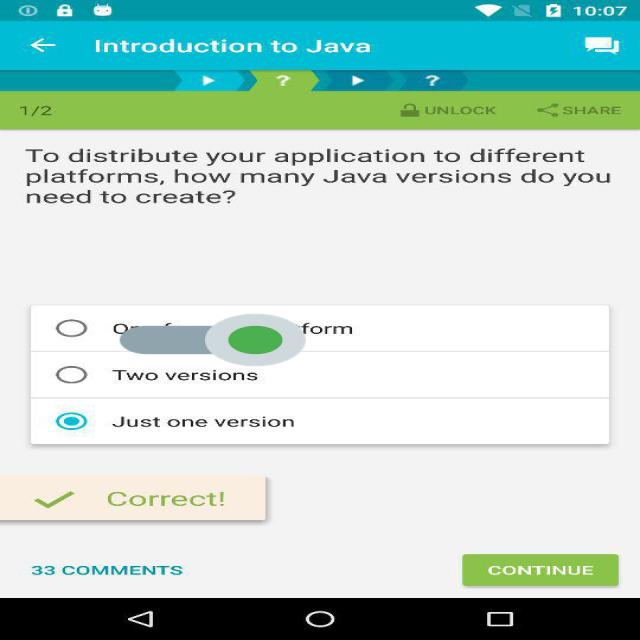social proof: (120, 291, 306, 389)
